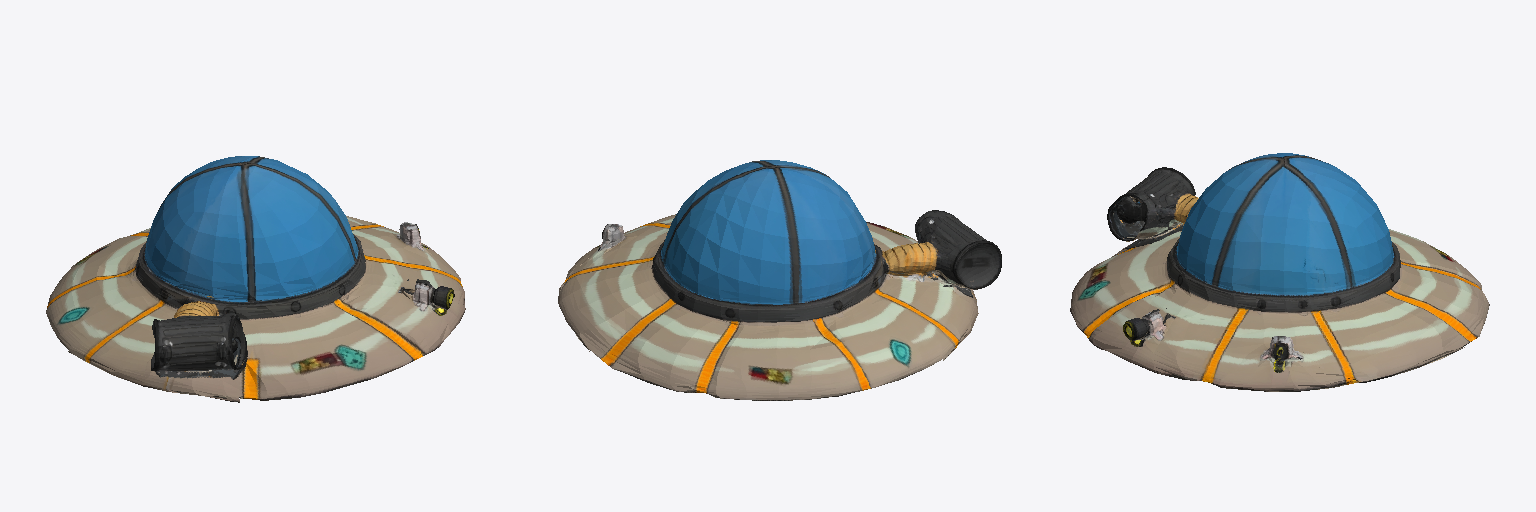
The picture shows the model from 3 angles: view 1: azimuth 30°, elevation 25°; view 2: azimuth 150°, elevation 25°; view 3: azimuth 270°, elevation 25°; orthographic projection.
Visible parts, largest first — view 1: Spaceship_Adventures_[number redacted]_texture; view 2: Spaceship_Adventures_[number redacted]_texture; view 3: Spaceship_Adventures_[number redacted]_texture.
Boxes of the visible parts, x1=… form: Spaceship_Adventures_[number redacted]_texture: x1=46, y1=156, x2=465, y2=402; Spaceship_Adventures_[number redacted]_texture: x1=558, y1=160, x2=1001, y2=400; Spaceship_Adventures_[number redacted]_texture: x1=1070, y1=153, x2=1489, y2=391.
Bounding box in the file's own units: 1.88 × 0.9157 × 1.88.
1 materials, 1 textured.